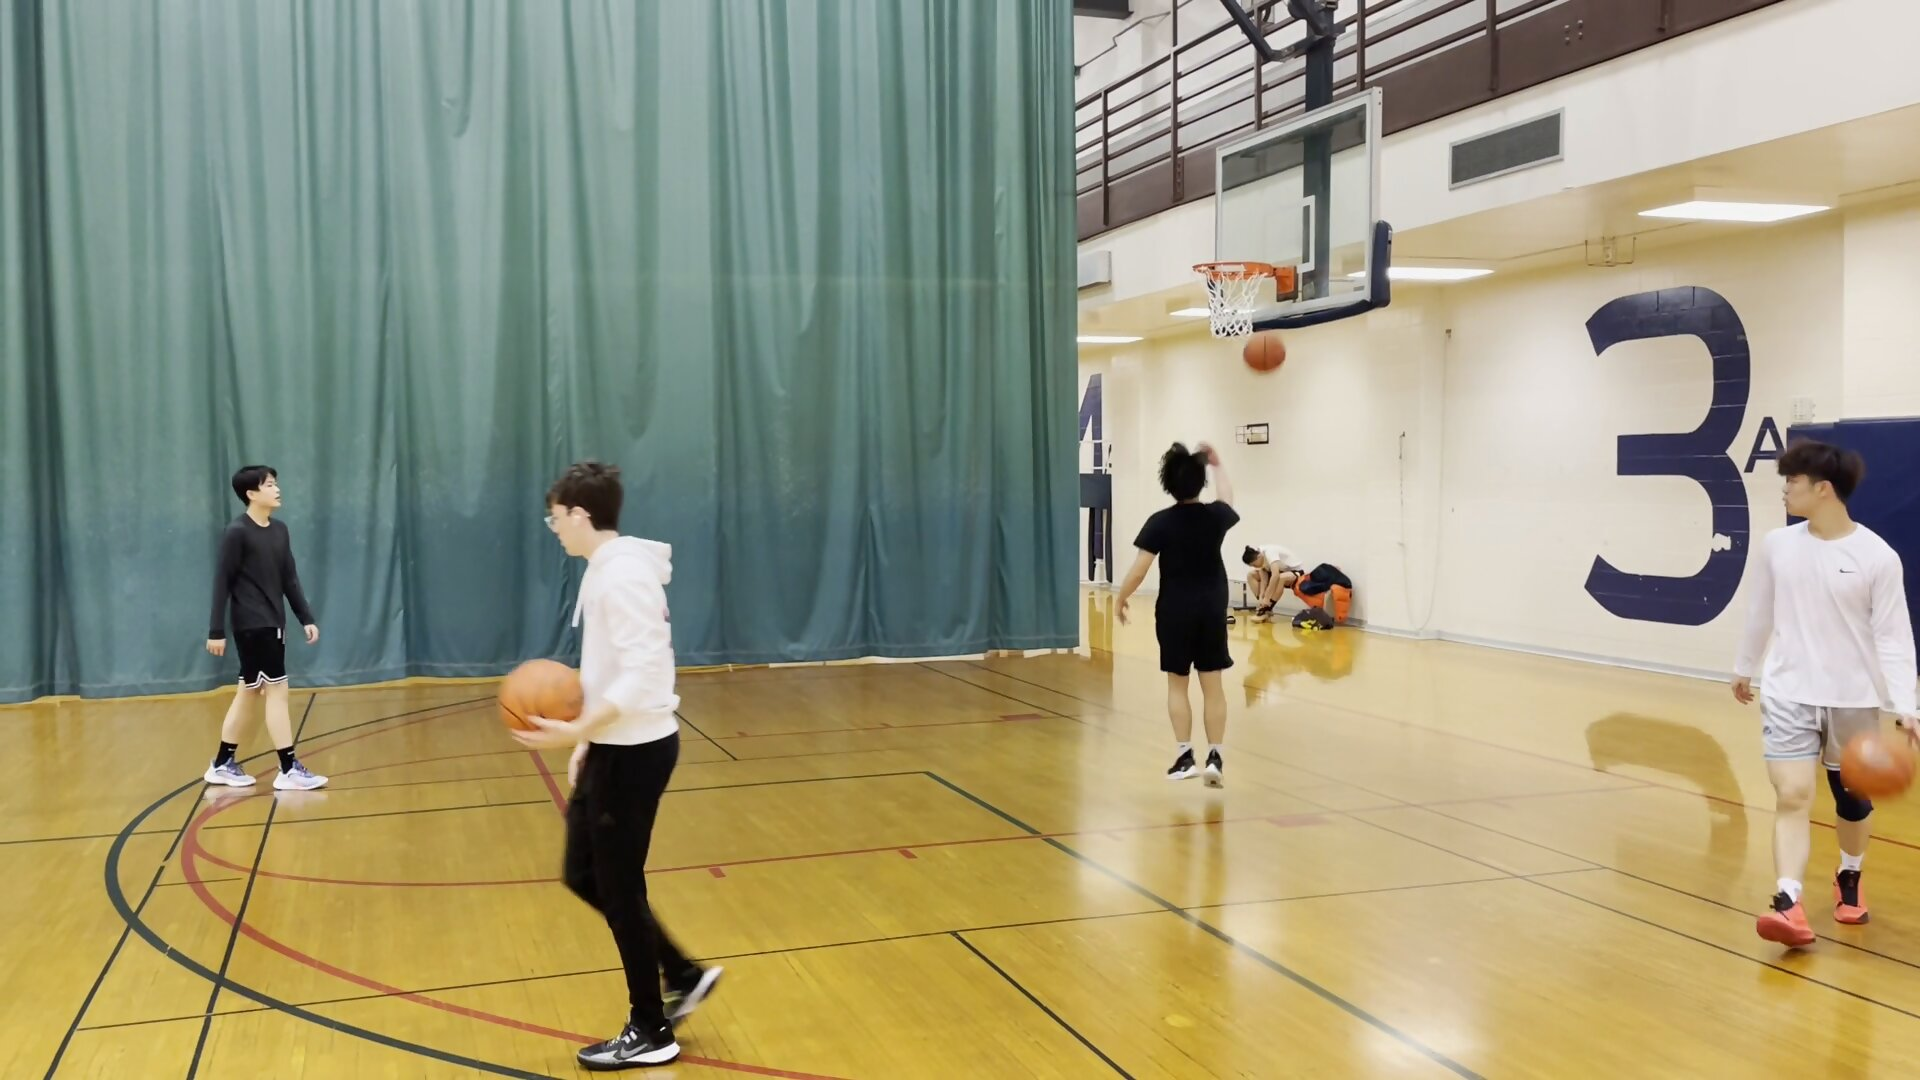ball: (493, 655, 588, 754), (1840, 726, 1915, 806), (1240, 331, 1289, 379)
net: (1203, 312, 1259, 343)
player: (531, 463, 710, 1069), (1740, 441, 1915, 945), (203, 462, 336, 798), (1122, 438, 1240, 797), (1240, 536, 1300, 625)
rim: (1188, 258, 1276, 283)
